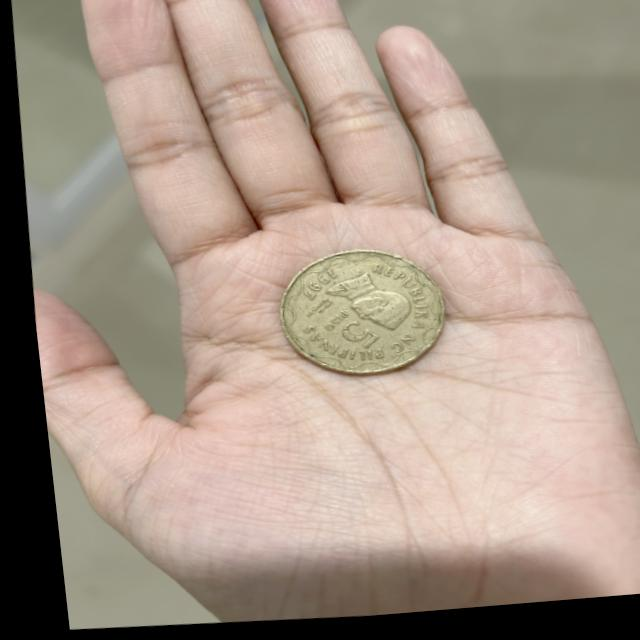5_Old_Front: (300, 309, 373, 364)
